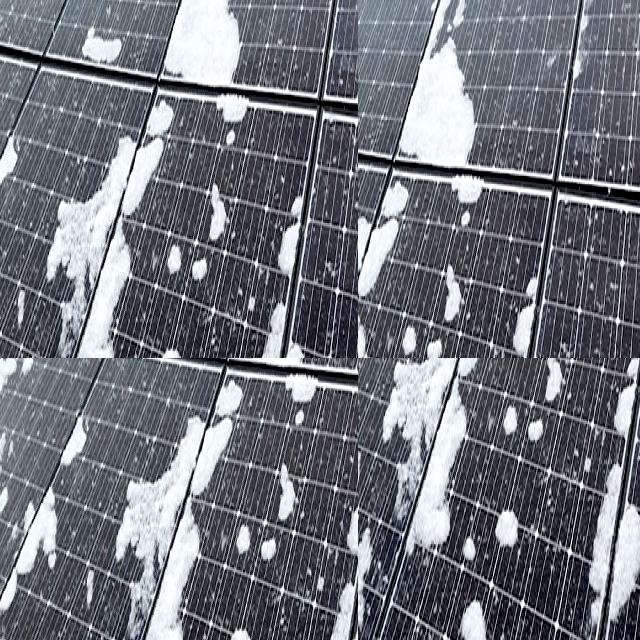bird: (0, 365, 9, 415), (0, 360, 7, 407), (358, 28, 364, 70), (358, 20, 365, 54), (358, 113, 363, 158), (358, 23, 363, 64), (358, 40, 363, 78), (358, 32, 363, 70), (0, 358, 7, 384), (358, 35, 363, 71), (358, 26, 363, 57), (0, 383, 5, 410), (358, 78, 362, 111), (358, 156, 363, 182), (358, 55, 363, 81), (358, 92, 361, 135), (358, 85, 362, 117), (358, 154, 362, 185), (0, 358, 6, 377), (358, 144, 361, 177), (358, 134, 363, 153), (358, 120, 364, 135), (358, 0, 364, 14), (358, 102, 360, 143), (358, 0, 364, 13), (358, 0, 363, 15), (0, 358, 4, 375), (358, 162, 362, 177), (358, 0, 362, 15), (358, 146, 360, 165)
panel: (385, 358, 510, 574), (591, 358, 640, 640), (494, 358, 588, 458), (460, 504, 518, 640), (503, 358, 561, 489), (358, 503, 400, 640), (358, 371, 388, 510), (358, 358, 381, 505), (358, 358, 403, 429), (408, 358, 449, 422), (358, 508, 376, 640), (358, 358, 394, 422), (411, 358, 461, 392), (358, 358, 377, 430), (358, 358, 381, 411), (358, 358, 380, 412), (358, 432, 370, 480), (358, 358, 369, 382)
shadow: (77, 0, 224, 358)
